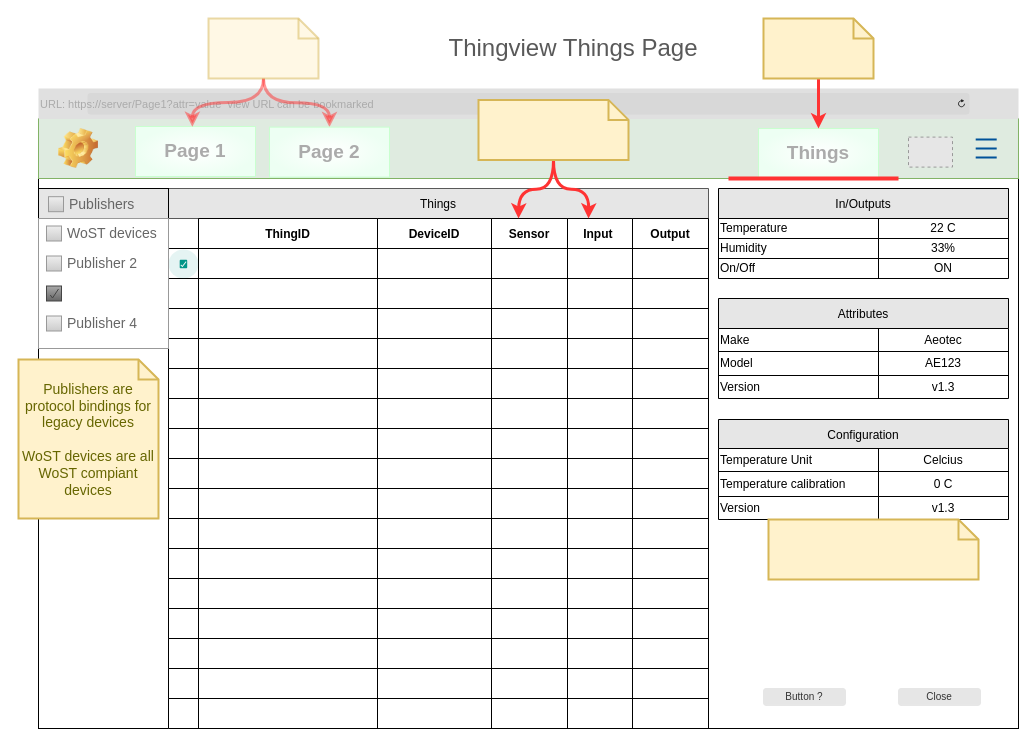
The diagram is 1036 pixels wide and 746 high, and some of its shapes have lost their labels. Grey dashed boxes stand in for pictures. Here are the shapes that lost their labels. From the top down, the centre of each, then its label:
At (263,48): "Dashboard Tabs".
At (818,48): "All Things Tab".
At (553,129): "Primary In/Output".
At (54,293): "Publisher 3".
At (873,549): "Configuration is editable by administrators Tooltip shows extra description".
